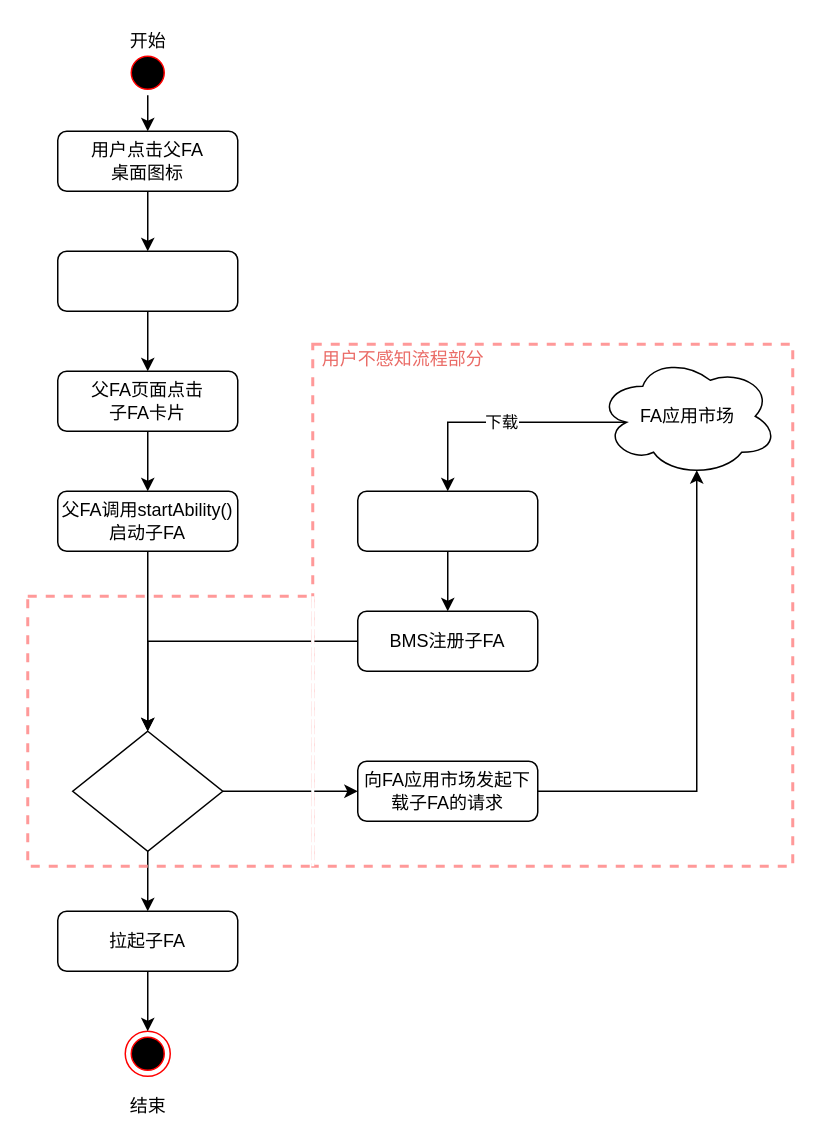
The diagram is 819 pixels wide and 1146 high, and some of its shapes have lost their labels. Each missing label, with the centre of its shape:
"BMS中查询本地是否已经存在子FA" belongs at pixel 147 790.
"Laucher调用startAbility()启动父FA" belongs at pixel 147 280.
"安装子FA" belongs at pixel 447 520.
